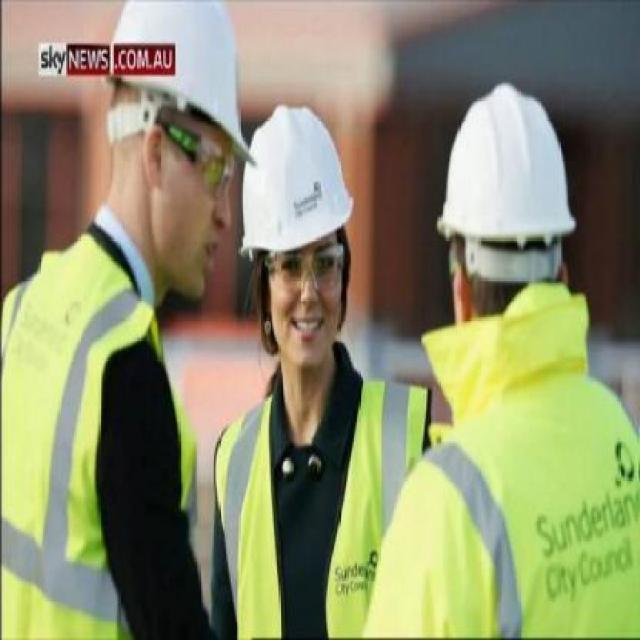helmet: (100, 6, 260, 182), (432, 85, 583, 241), (240, 110, 358, 249)
vest: (6, 260, 196, 636), (417, 351, 640, 639), (219, 406, 409, 638)
